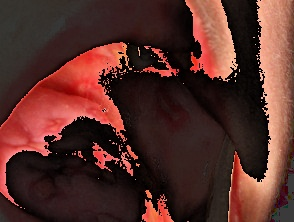SJS-TEN: (0, 0, 280, 222)
